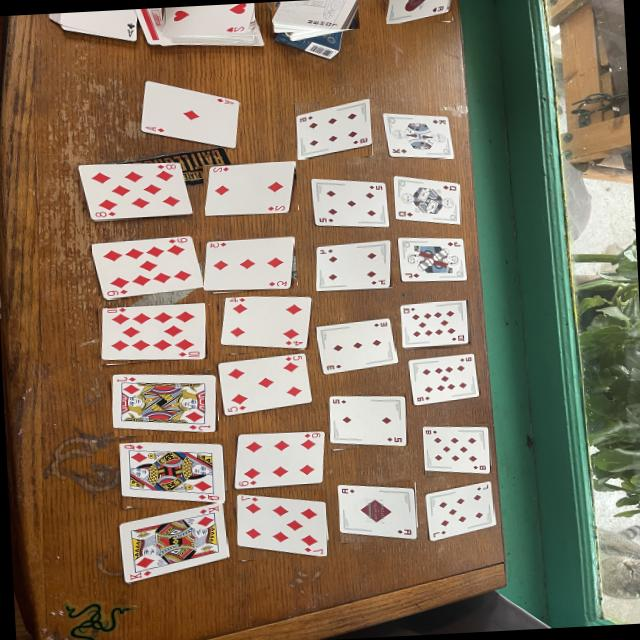10 of diamonds: (102, 303, 207, 361), (401, 301, 469, 349)
2 of diamonds: (206, 161, 296, 216), (329, 397, 407, 447)
2 of hearts: (164, 4, 254, 37)
3 of diamonds: (205, 237, 295, 292), (317, 319, 396, 375)
4 of diamonds: (221, 298, 312, 350), (316, 240, 392, 291)
5 of diamonds: (219, 354, 312, 415), (311, 179, 390, 228)
6 of diamonds: (235, 431, 325, 490), (296, 99, 372, 159)
7 of diamonds: (237, 495, 328, 557), (426, 481, 495, 540)
8 of diamonds: (79, 163, 192, 221), (423, 427, 490, 474)
9 of diamonds: (92, 237, 204, 299), (409, 354, 480, 405)
Ace of clubs: (49, 9, 138, 41)
Ace of diamonds: (141, 81, 240, 148), (339, 485, 418, 539)
Ace of hearts: (386, 0, 452, 24)
Jack of diamonds: (113, 375, 217, 432), (398, 238, 466, 282)
Joker: (272, 0, 357, 30)
King of diamonds: (120, 504, 228, 583), (383, 114, 455, 159)
Queen of diamonds: (120, 443, 226, 503), (394, 176, 461, 224)
